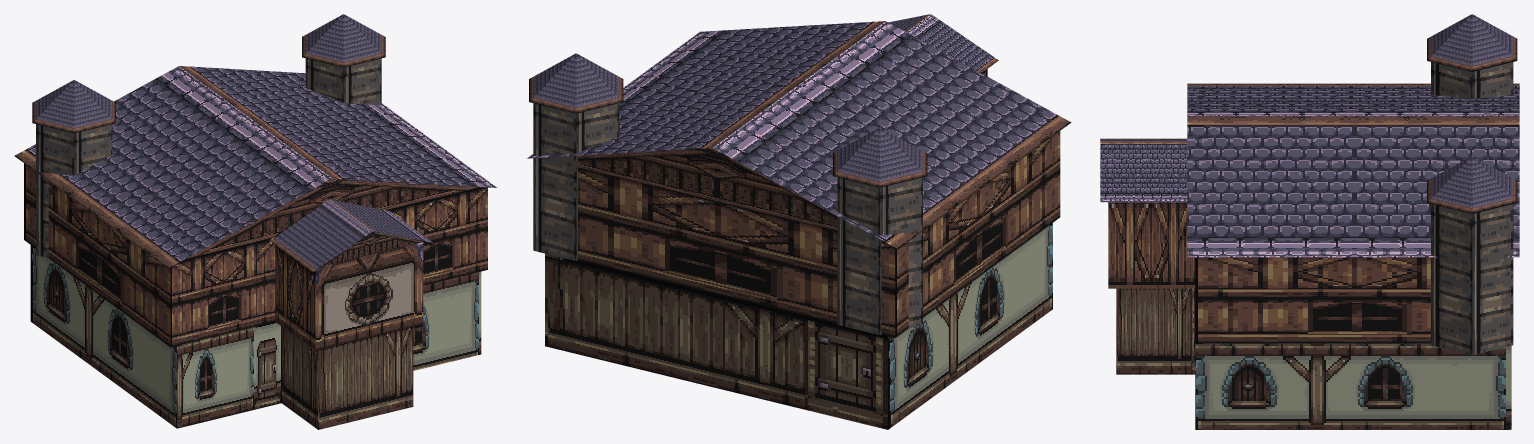
Rendered from house_large.glb.
The picture shows the model from 3 angles, left to right: view 1: azimuth 30°, elevation 25°; view 2: azimuth 150°, elevation 25°; view 3: azimuth 270°, elevation 25°; orthographic projection. The views are drawn at different scales.
Visible parts, largest first — view 1: House_Roof_Left, House_Roof_Right, House_Ground_Left, House_Upper_Left, House_Proj_Upper_Front, House_Upper_Front_Left, House_Ground_Front_Left, House_Proj_Ground_Front, House_Upper_Front_Right, House_Gable_Front, House_Ground_Front_Right, House_Proj_Roof_Left (+16 smaller); view 2: House_Roof_Left, House_Ground_Back, House_Upper_Back, House_Roof_Right, House_Ground_Left, House_Upper_Left, House_Gable_Back, House_Turret_Wall_1.001, House_Turret_Wall_1, House_Turret_Wall_2, House_Proj_Roof_Left, House_Turret_Wall_2.001 (+8 smaller); view 3: House_Roof_Right, House_Ground_Right, House_Upper_Right, House_Roof_Left, House_Proj_Upper_Right, House_Proj_Ground_Right, House_Turret_Wall_5.001, House_Turret_Wall_0.001, House_Proj_Roof_Right, House_Turret_Roof_5, House_Turret_Roof_5.001, House_Turret_Roof_0.001 (+7 smaller).
Boxes of the visible parts, left/top/right/bottom form: House_Roof_Left: left=14, top=66, right=332, bottom=268; House_Roof_Right: left=179, top=66, right=497, bottom=187; House_Ground_Left: left=30, top=245, right=176, bottom=428; House_Upper_Left: left=24, top=163, right=170, bottom=346; House_Proj_Upper_Front: left=315, top=242, right=423, bottom=350; House_Upper_Front_Left: left=170, top=240, right=275, bottom=346; House_Ground_Front_Left: left=177, top=322, right=281, bottom=428; House_Proj_Ground_Front: left=318, top=327, right=413, bottom=429; House_Upper_Front_Right: left=390, top=187, right=487, bottom=285; House_Gable_Front: left=180, top=178, right=484, bottom=261; House_Ground_Front_Right: left=413, top=271, right=481, bottom=370; House_Proj_Roof_Left: left=269, top=199, right=372, bottom=272; House_Roof_Left: left=712, top=21, right=1071, bottom=249; House_Ground_Back: left=545, top=253, right=887, bottom=429; House_Upper_Back: left=578, top=167, right=895, bottom=337; House_Roof_Right: left=527, top=21, right=885, bottom=158; House_Ground_Left: left=888, top=223, right=1052, bottom=429; House_Upper_Left: left=895, top=131, right=1060, bottom=337; House_Gable_Back: left=578, top=148, right=883, bottom=241; House_Turret_Wall_1.001: left=533, top=103, right=576, bottom=260; House_Turret_Wall_1: left=837, top=177, right=879, bottom=335; House_Turret_Wall_2: left=880, top=177, right=922, bottom=335; House_Proj_Roof_Left: left=906, top=14, right=998, bottom=73; House_Turret_Wall_2.001: left=576, top=103, right=619, bottom=260; House_Roof_Right: left=1187, top=116, right=1519, bottom=257; House_Ground_Right: left=1195, top=343, right=1511, bottom=429; House_Upper_Right: left=1195, top=257, right=1430, bottom=343; House_Roof_Left: left=1187, top=83, right=1519, bottom=116; House_Proj_Upper_Right: left=1108, top=202, right=1195, bottom=288; House_Proj_Ground_Right: left=1116, top=288, right=1195, bottom=374; House_Turret_Wall_5.001: left=1431, top=204, right=1472, bottom=355; House_Turret_Wall_0.001: left=1472, top=204, right=1513, bottom=355; House_Proj_Roof_Right: left=1100, top=141, right=1187, bottom=202; House_Turret_Roof_5: left=1427, top=14, right=1472, bottom=71; House_Turret_Roof_5.001: left=1427, top=156, right=1472, bottom=213; House_Turret_Roof_0.001: left=1472, top=156, right=1516, bottom=213.
Size of what is drawn, in the model's own units: 11.14 by 7.5 by 10.6.
Materials: 2 (2 with a texture image).
